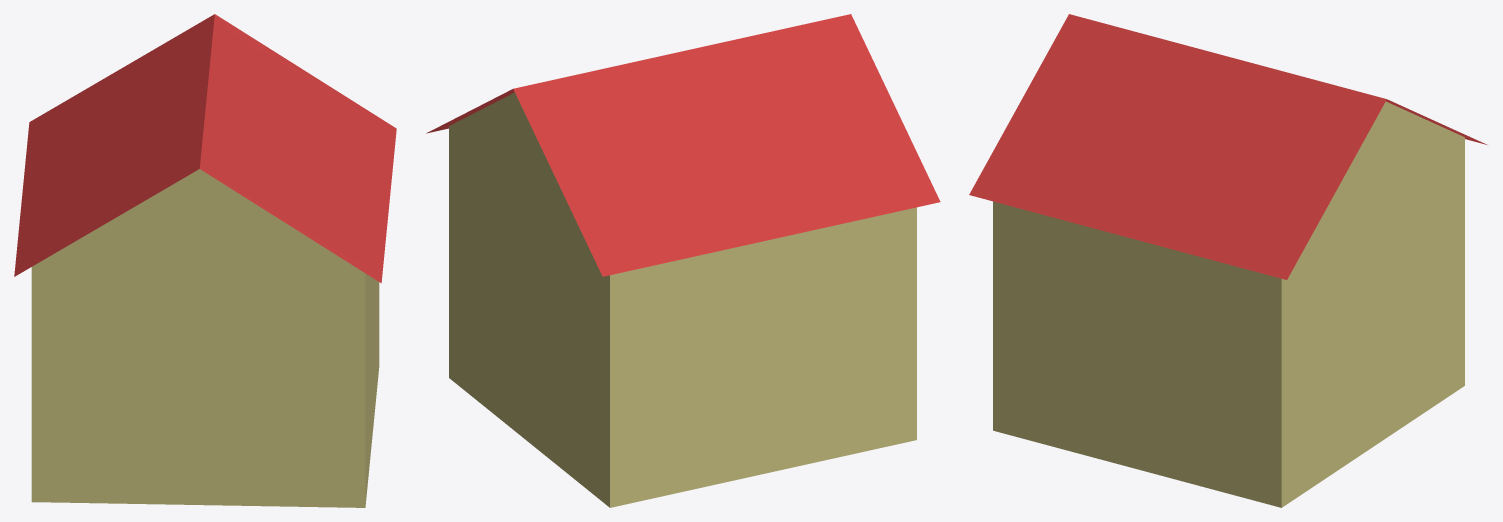
The picture shows the model from 3 angles, left to right: view 1: azimuth 30°, elevation 25°; view 2: azimuth 150°, elevation 25°; view 3: azimuth 270°, elevation 25°; orthographic projection. The views are drawn at different scales.
Size of the model in its own units: 15.05 by 15.04 by 11.24.
